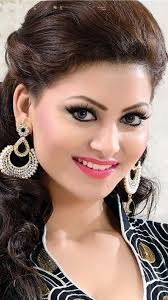indian_female: (12, 30, 157, 214)
